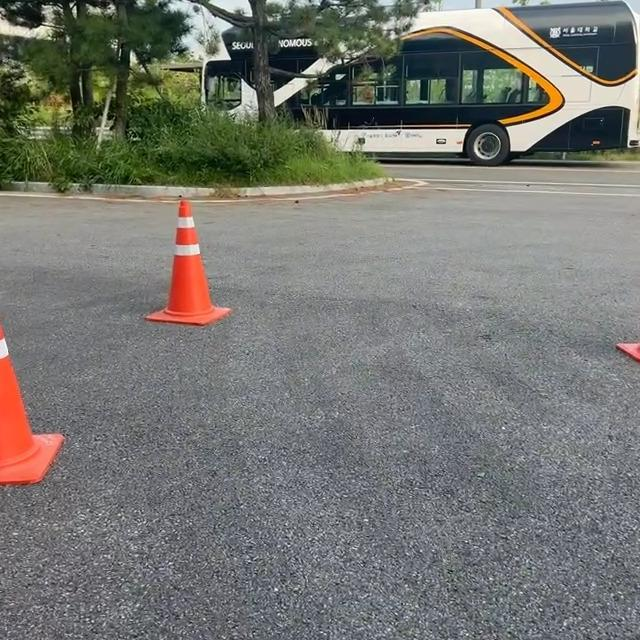fallen_object: (0, 310, 98, 500), (132, 165, 224, 337)
